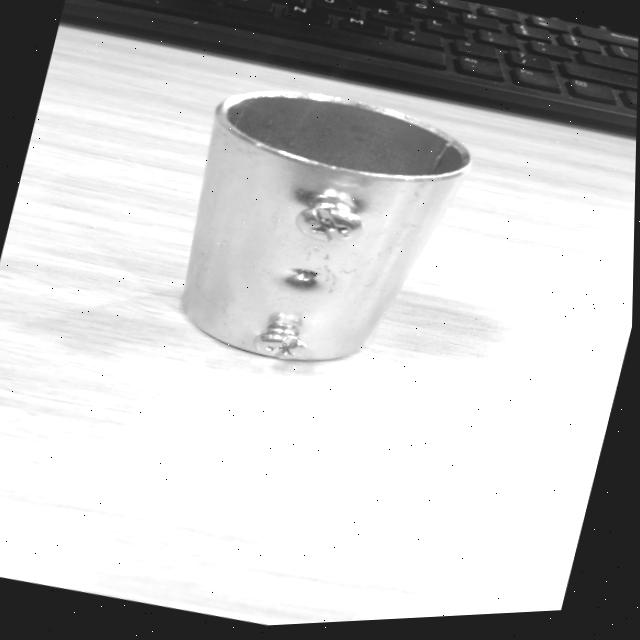Co_Nho: (170, 74, 478, 389)
